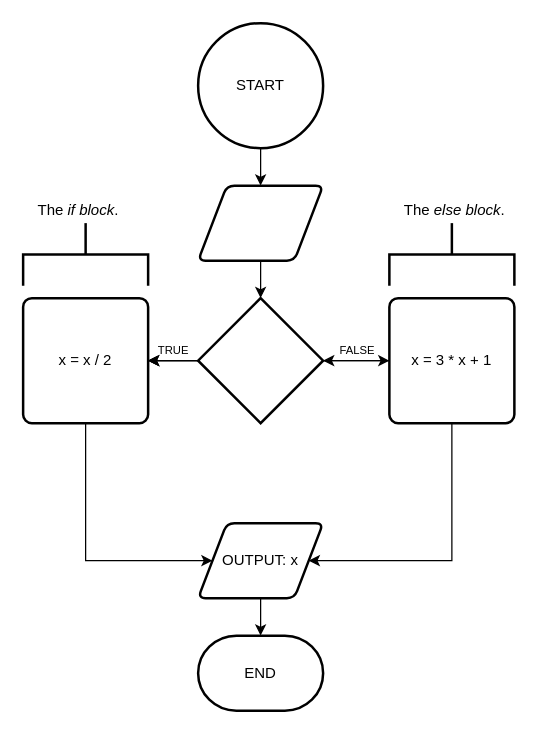
The diagram is 548 pixels wide and 733 high, and some of its shapes have lost their labels. The box of each missing label's shape, as (x1, y1, x2, y2) in pixels:
INPUT: x: (196, 184, 324, 261)
x is even: (196, 296, 324, 424)
